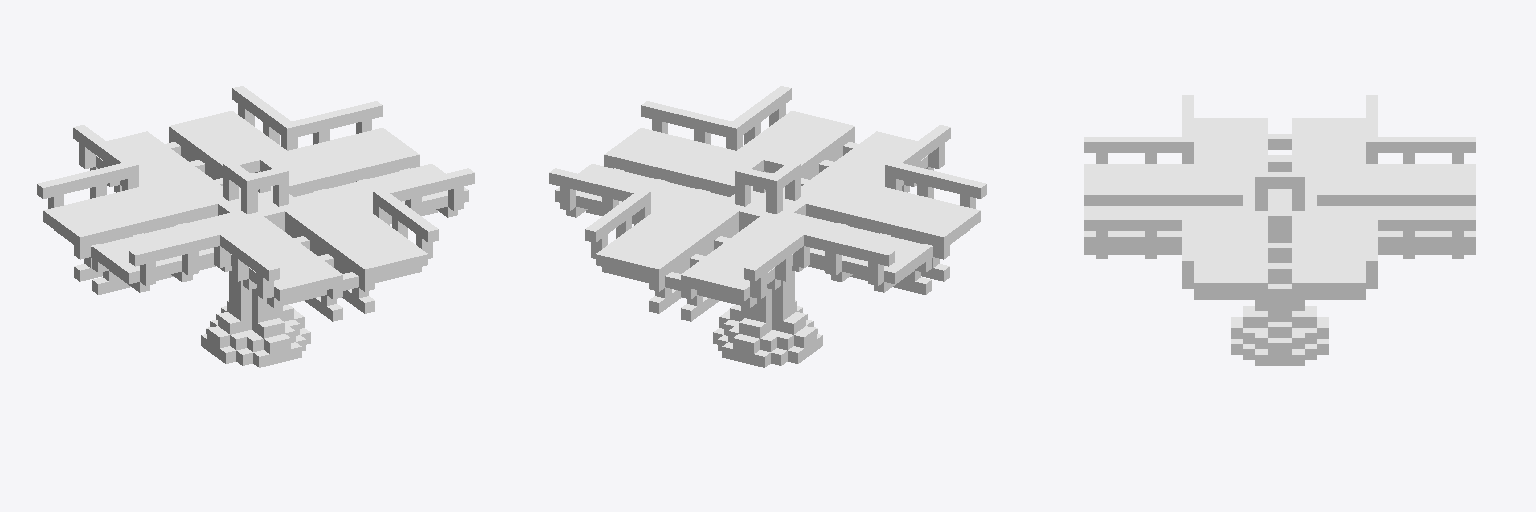
The model's file is bridgeCrossway.obj.
The picture shows the model from 3 angles: view 1: azimuth 30°, elevation 25°; view 2: azimuth 150°, elevation 25°; view 3: azimuth 270°, elevation 25°; orthographic projection.
Parts seen in each view (by area): view 1: bridgeCrossway; view 2: bridgeCrossway; view 3: bridgeCrossway.
Boxes of the visible parts, x1,y1,x2,y2 form: bridgeCrossway: [37, 86, 474, 367]; bridgeCrossway: [549, 86, 986, 367]; bridgeCrossway: [1084, 95, 1475, 365].
Bounding box in the file's own units: 3.2 × 1.6 × 3.2.